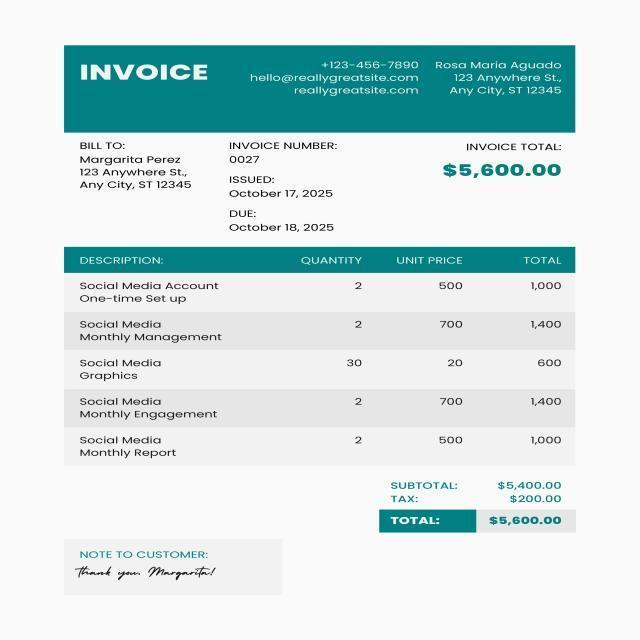ROI: (63, 245, 579, 461), (379, 472, 578, 533), (228, 139, 353, 233), (248, 58, 421, 100), (71, 139, 196, 195), (76, 548, 226, 588), (432, 59, 566, 102), (443, 143, 569, 186), (76, 59, 211, 85)
